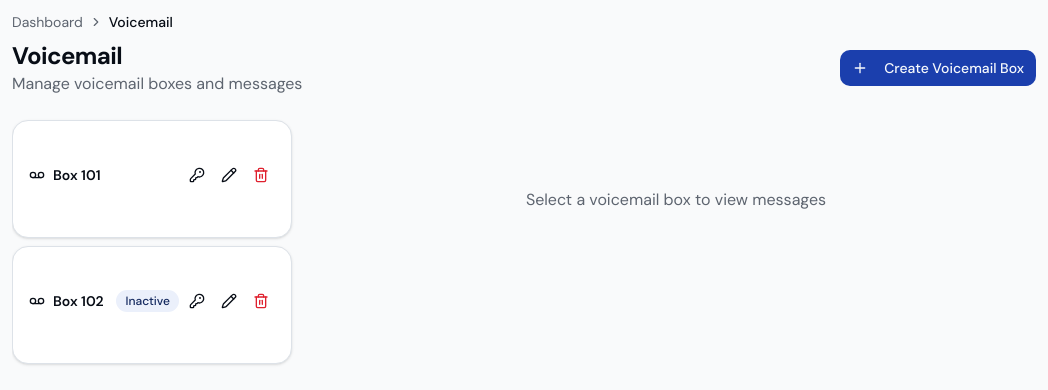
VoicemailPage › shows messages after selecting a voicemail box
// Click the first box card
Step 1. Click the text "Box 101" → x=65, y=175, box [29,165,100,185]
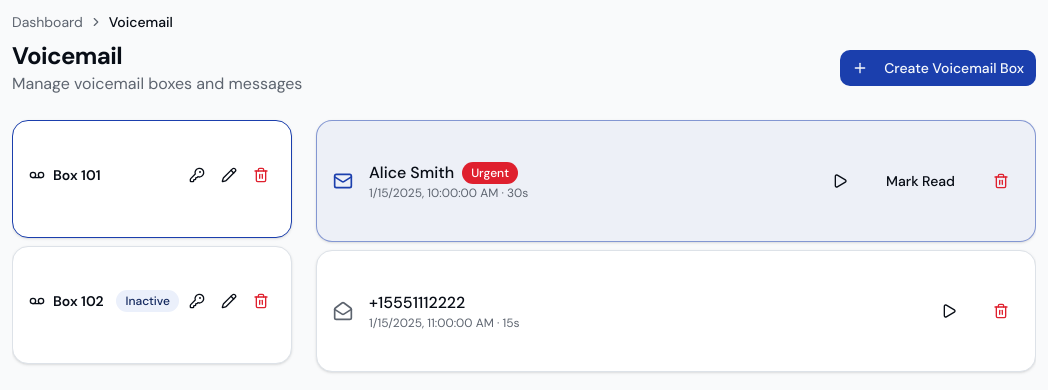
Expected: the text "Alice Smith" is shown, [369,161,454,185]
